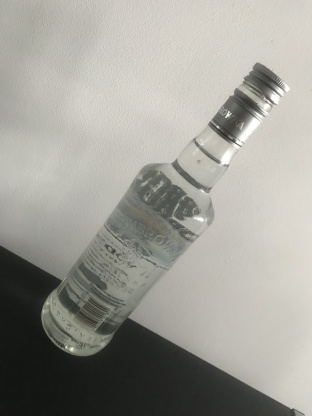nakretka: (207, 59, 291, 152)
